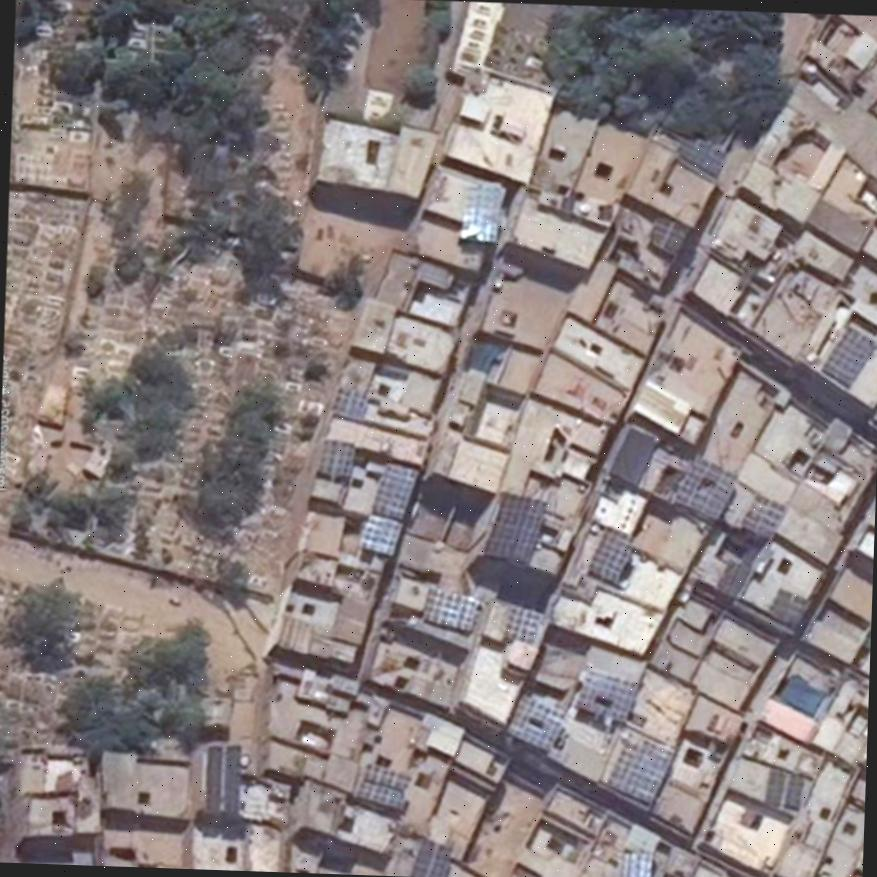Solarpanel: (360, 462, 417, 554), (608, 731, 673, 803), (484, 493, 547, 563), (673, 459, 740, 518), (823, 326, 875, 388), (508, 694, 565, 750), (577, 673, 639, 721), (589, 525, 632, 580), (742, 490, 789, 538), (458, 188, 501, 238), (425, 589, 476, 631), (360, 764, 406, 806), (504, 603, 541, 645), (321, 441, 356, 474), (331, 387, 367, 417), (621, 852, 654, 877)
